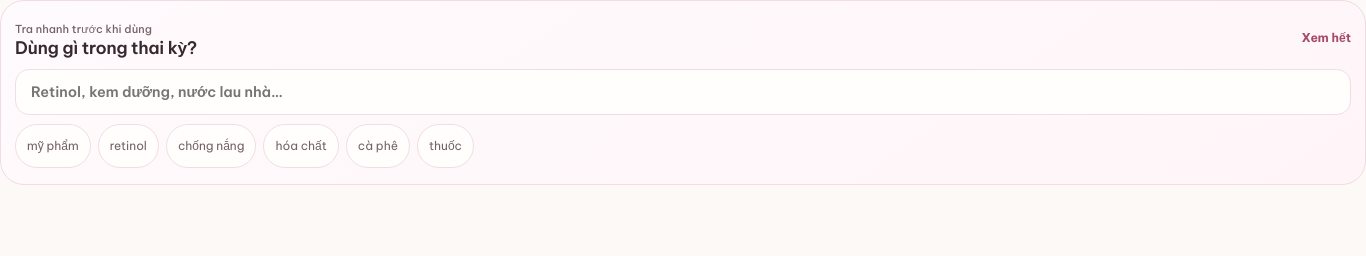
Test: PregnancySafetySearch › searches Vietnamese guidance without requiring accents
Type "ca phe" into the search field at (684, 92), box left=29, top=70, right=1340, bottom=114
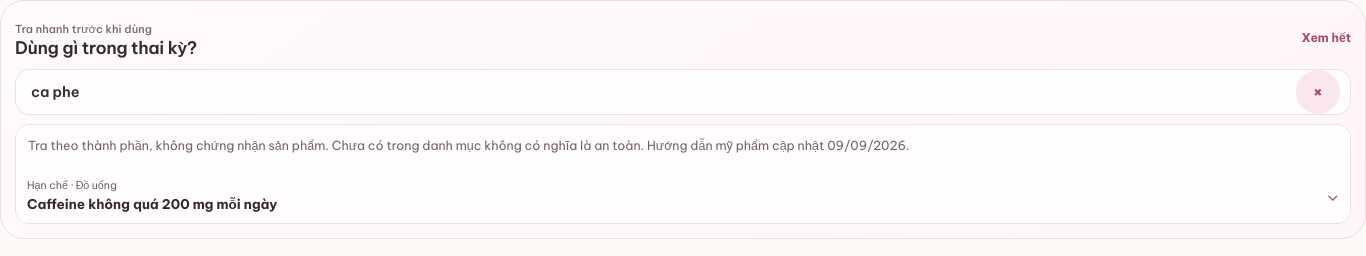
Expected: the text "Caffeine không quá 200 mg mỗi ngày" is shown, left=27, top=196, right=277, bottom=213
